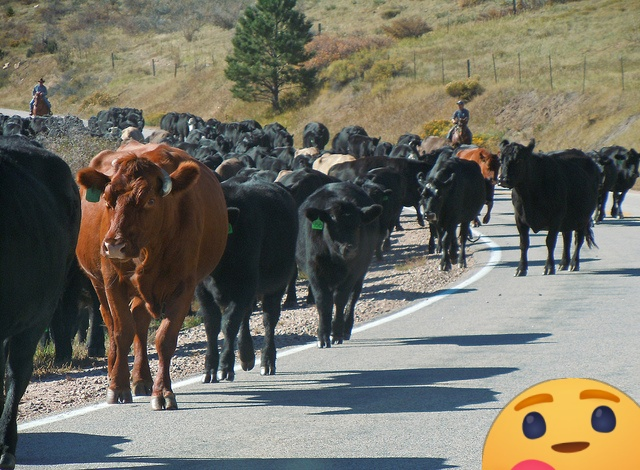care: (482, 378, 640, 470)
